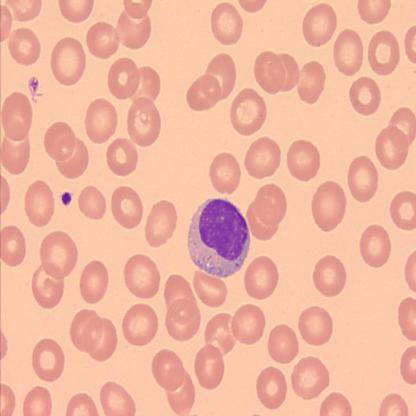Lymphocyte: (187, 195, 251, 279)
